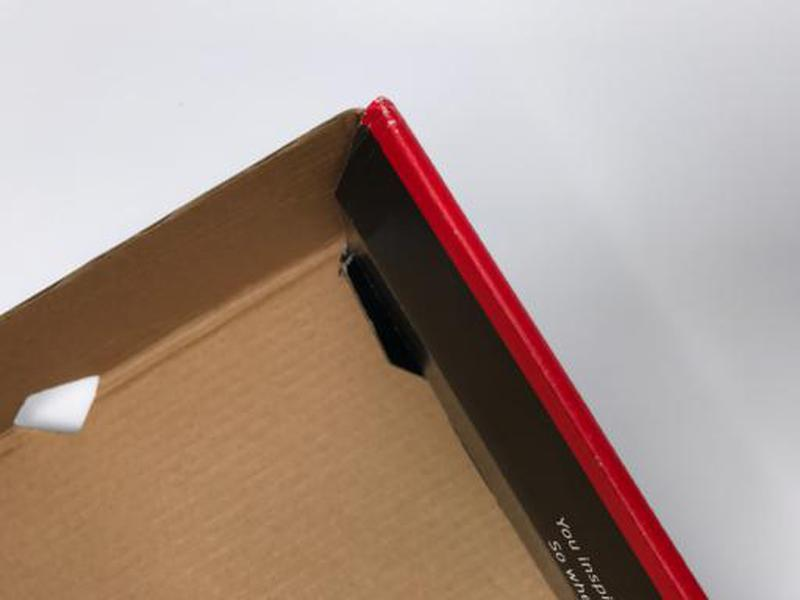cardboard: (1, 92, 717, 600)
